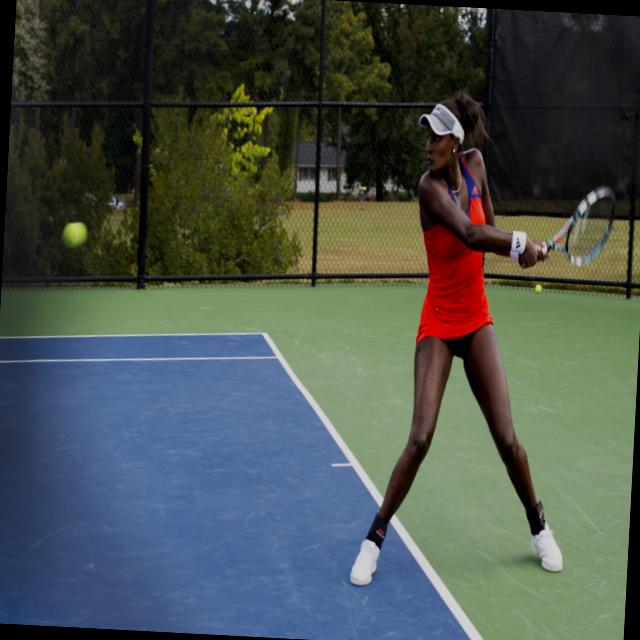Tennis ball: (62, 221, 86, 245), (534, 282, 542, 294)
